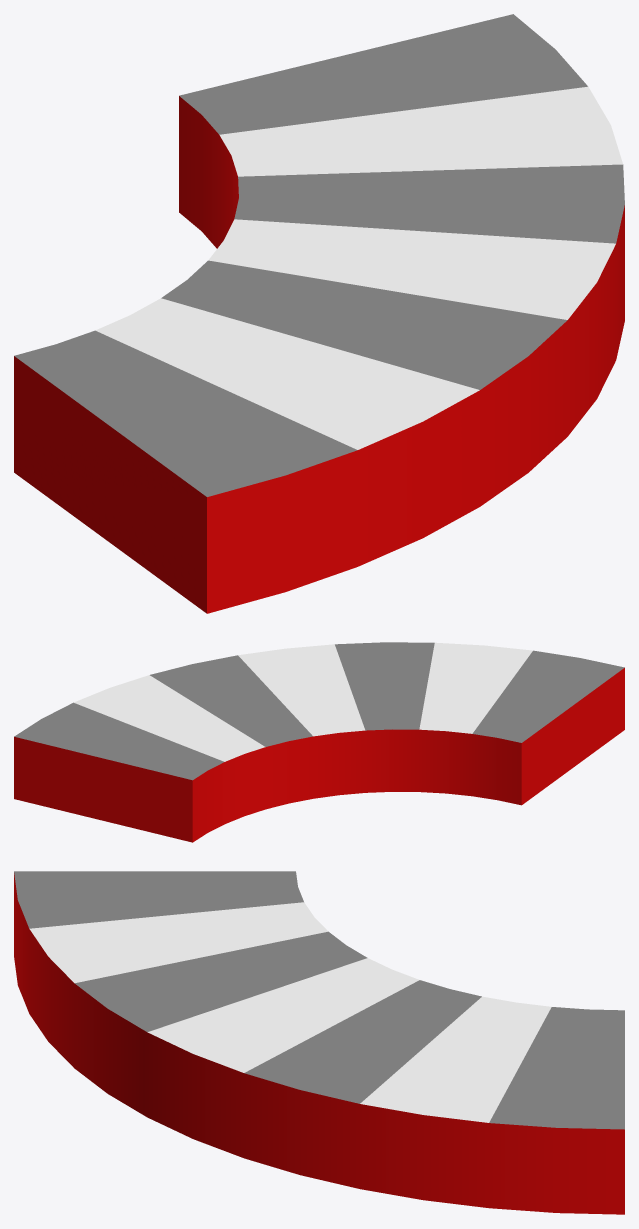
Rendered from Track_Turn.fbx.
3 renders of one model, top to bottom at view 1: azimuth 30°, elevation 25°; view 2: azimuth 150°, elevation 25°; view 3: azimuth 270°, elevation 25°, orthographic. The views are drawn at different scales.
Visible parts, largest first — view 1: Track_Turn; view 2: Track_Turn; view 3: Track_Turn.
Part boxes in pixels (bbox=[...]): Track_Turn: bbox=[14, 14, 624, 613]; Track_Turn: bbox=[14, 642, 624, 842]; Track_Turn: bbox=[14, 871, 624, 1214].
Bounding box in the file's own units: 1950 × 300 × 1950.
